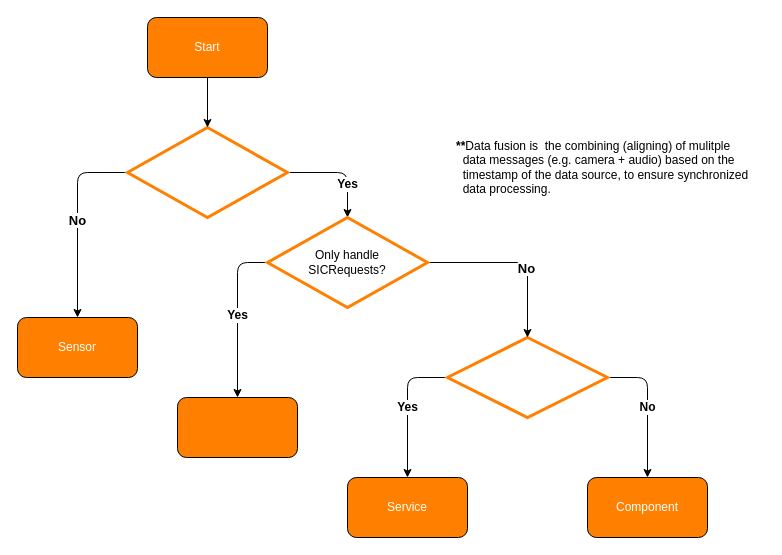
This 782x555 diagram has some shape labels left out. The centre of each missing label's shape, as x and y in pixels:
"Actuator" belongs at point 237,427.
"Component has inputs?" belongs at point 207,172.
"Should service fuse ** data?" belongs at point 527,377.
